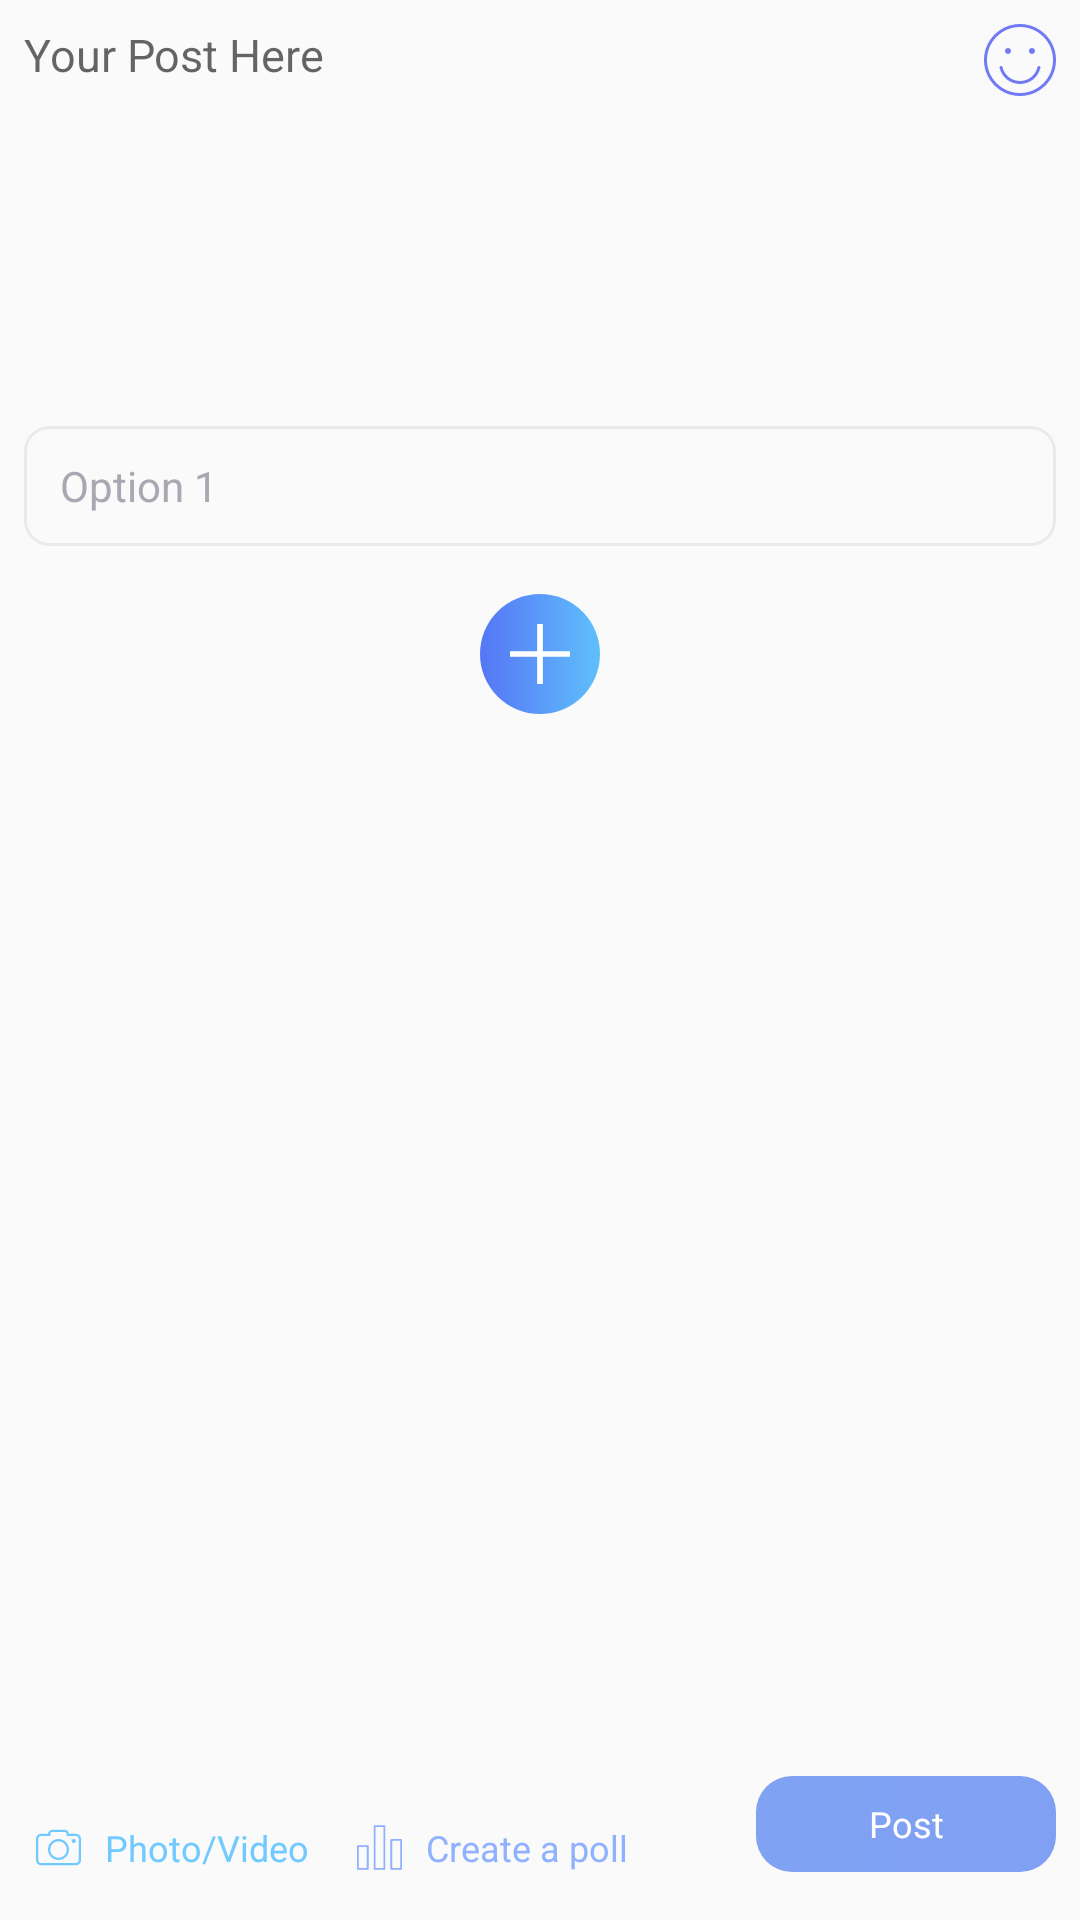

Point at icon controls on the screen. Image size 1080 x 1920, points as (x,y).
add: (540,654)
smile: (1020,60)
